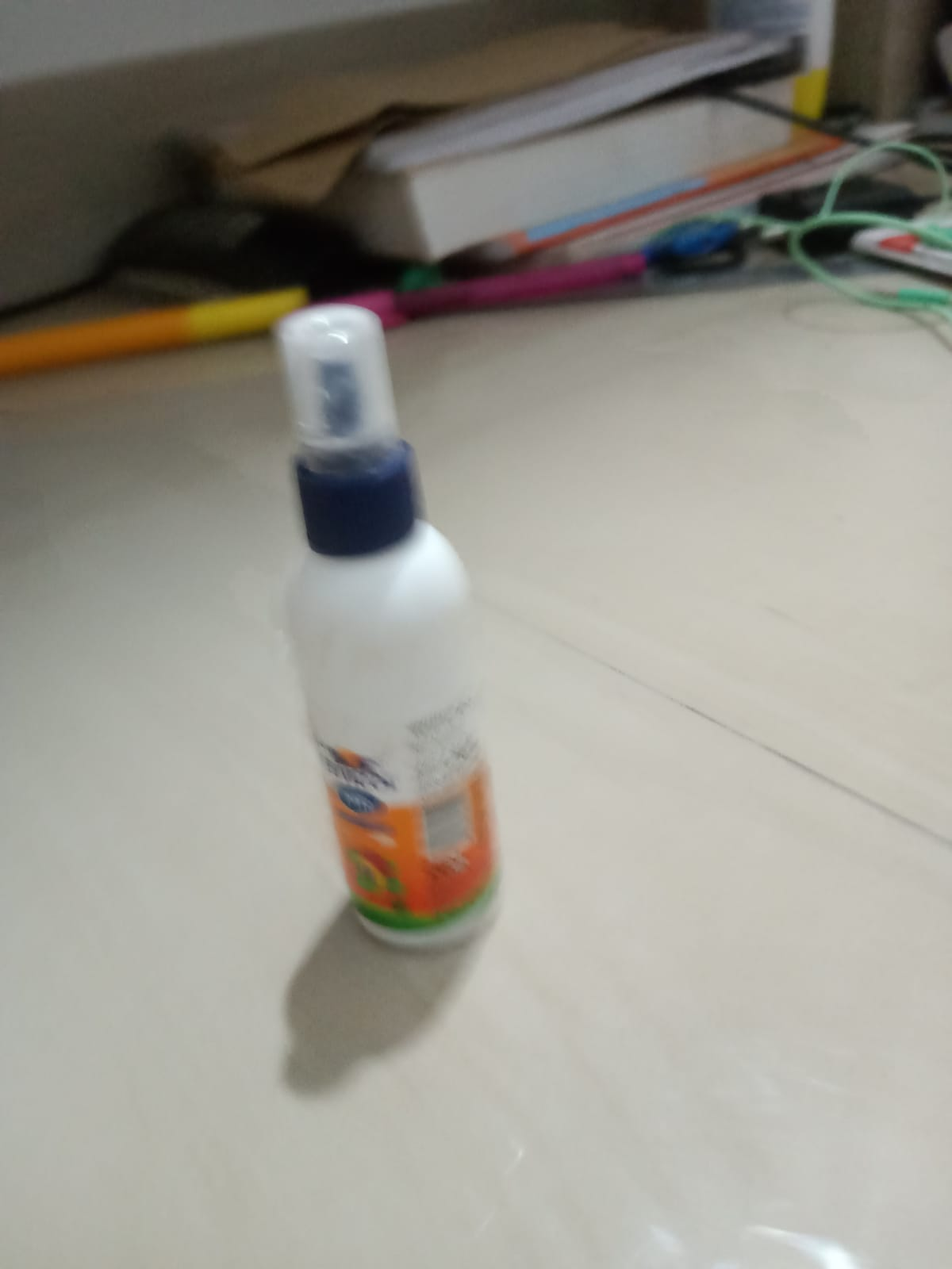plastic: (204, 294, 568, 963)
